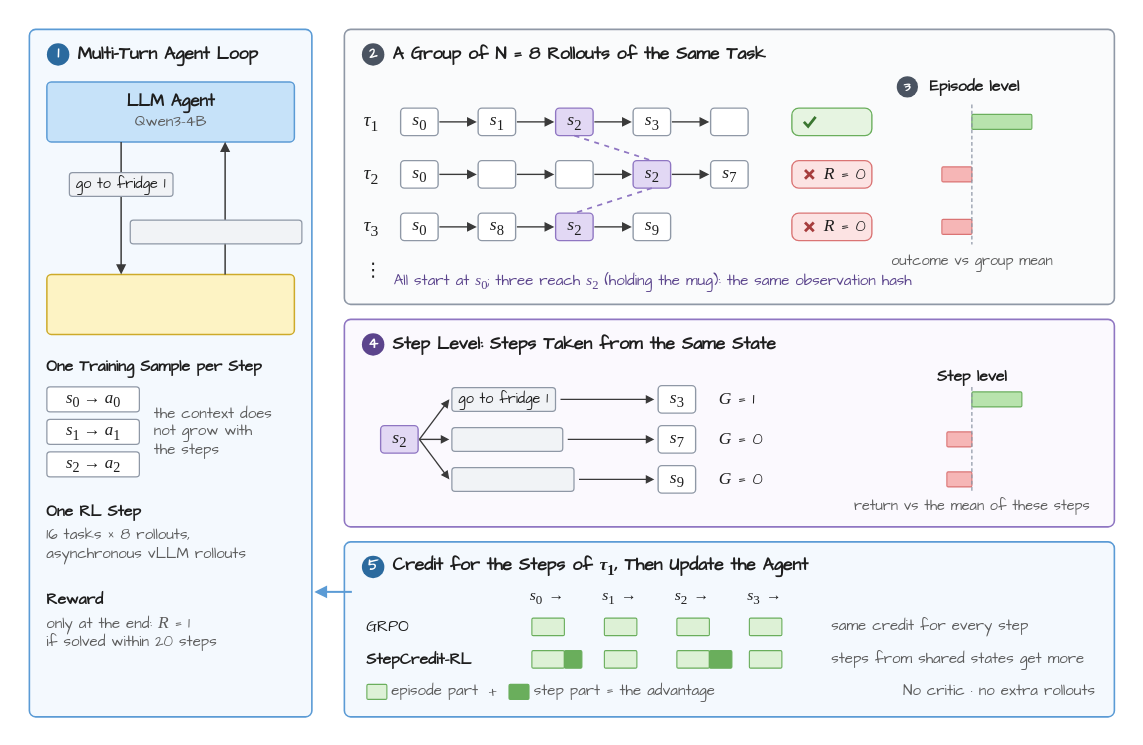
This 1143x745 diagram has some shape labels left out. The shapes that lost their labels are listed below. From the top down, each one's box as (x1, y1, x2, y2) in pixels, then its label:
(709, 107, 748, 136): s 4
(791, 107, 872, 136): R = 1
(477, 159, 516, 188): s 5
(554, 159, 593, 188): s 6
(129, 219, 302, 244): “You arrive at fridge 1.”
(46, 273, 294, 334): Environment ALFWorld household tasks
(451, 426, 563, 451): go to cabinet 1
(451, 466, 574, 491): go to sinkbasin 1
